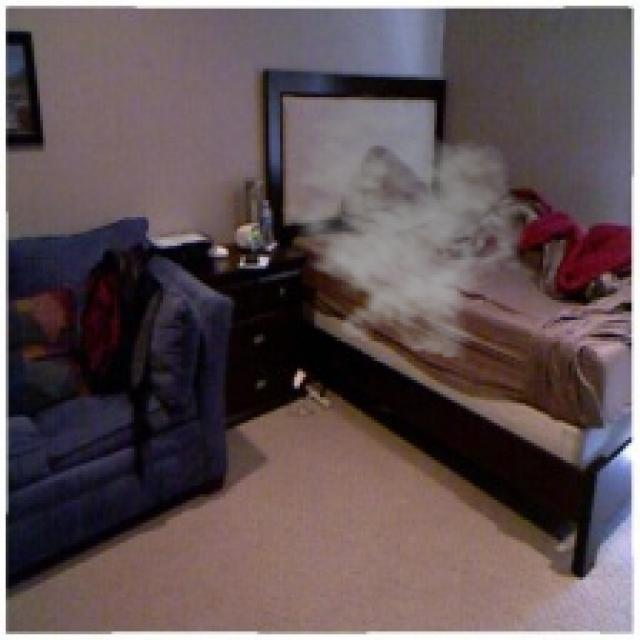Smoke: (268, 91, 538, 360)
